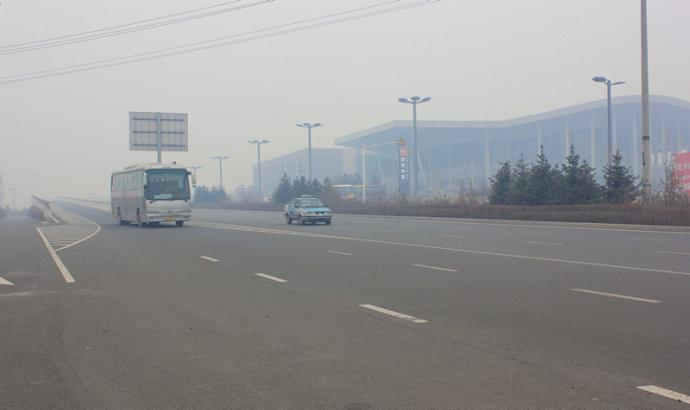bus: (108, 161, 196, 228)
car: (283, 193, 333, 227)
